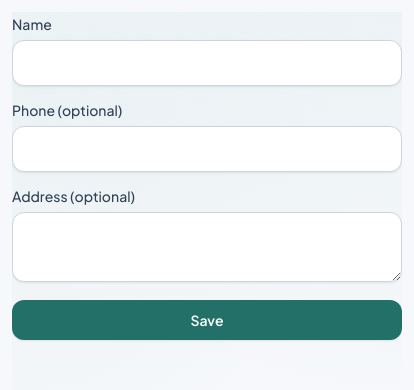
Test: CustomerForm (Requirements 2.1-2.4) › shows a phone validation message
This screenshot has width=414, height=390.
Type "Ramesh" into the field labelled "Name" at (207, 63), box 12,40 -> 402,86
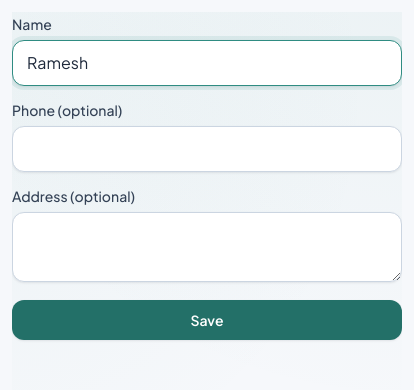
Type "12" into the field labelled "Phone (optional)" at (207, 149), box 12,126 -> 402,172
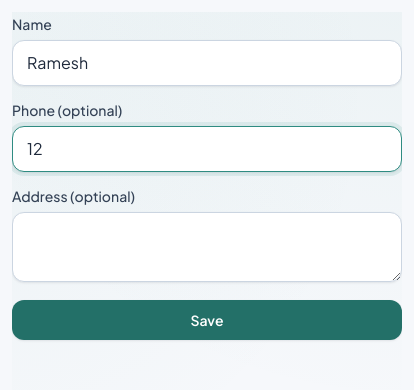
Click the button "Save" at (207, 320), box 12,300 -> 402,340
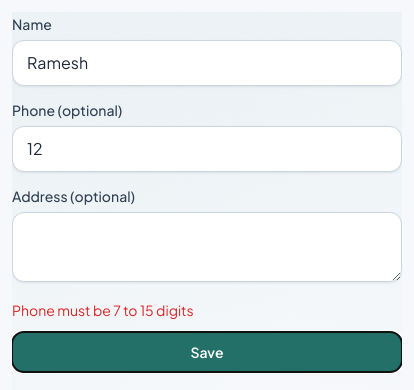
Check: the text "Phone must be 7 to 15 digits" is shown, box 12,301 -> 194,319
